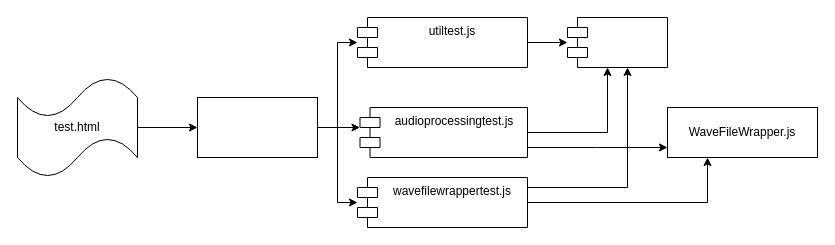
Some shapes in this 835 by 245 pixel diagram are drawn without their labels. Here are the shapes that lost their labels. From the top down, the box of each, then its label:
(566, 16, 668, 68): util.js
(196, 96, 318, 158): testrunner.js
